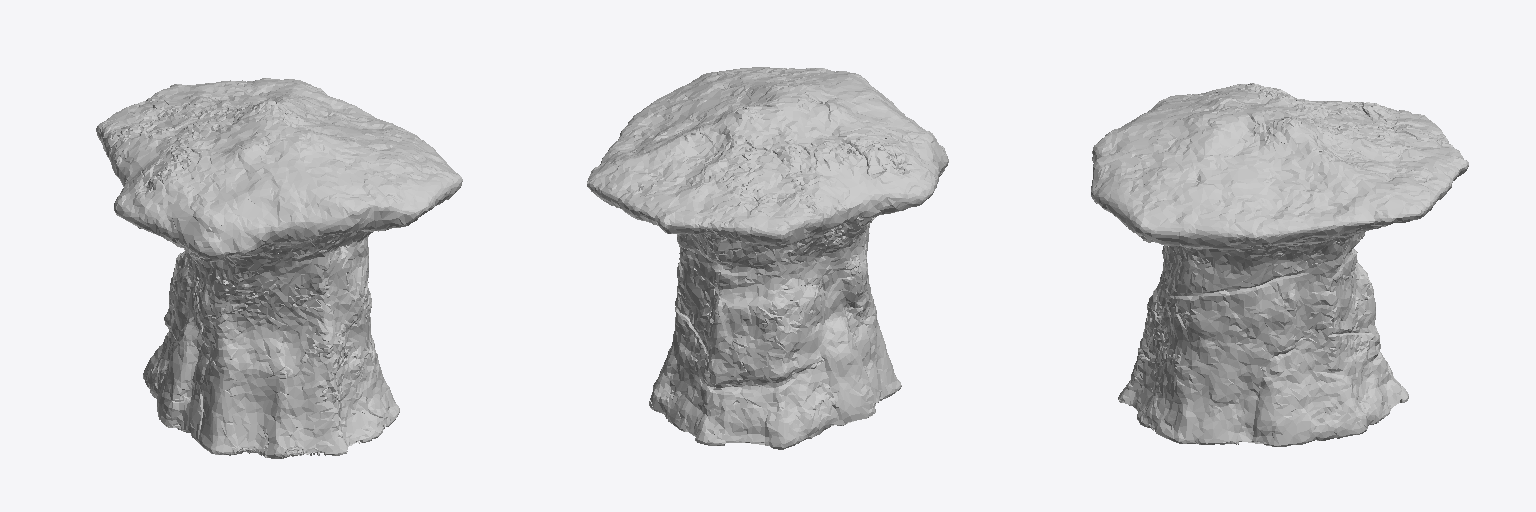
The model's file is CliffMushroom02.OBJ.
3 renders of one model, left to right at view 1: azimuth 30°, elevation 25°; view 2: azimuth 150°, elevation 25°; view 3: azimuth 270°, elevation 25°, orthographic.
Visible parts, largest first — view 1: Group41303; view 2: Group41303; view 3: Group41303.
Part boxes in pixels (left/top/right/bottom): Group41303: left=96, top=78, right=462, bottom=458; Group41303: left=587, top=67, right=948, bottom=449; Group41303: left=1091, top=83, right=1468, bottom=446.
Bounding box in the file's own units: 4.22 × 3.93 × 4.64.